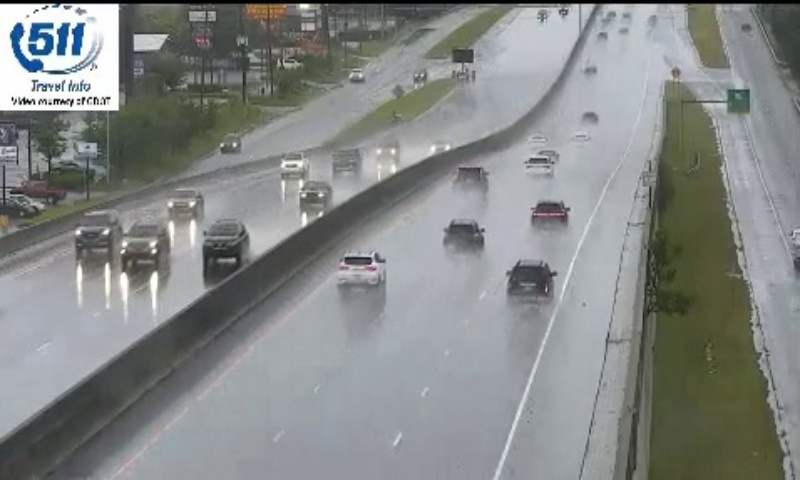car: (507, 260, 554, 299), (338, 249, 384, 287), (443, 219, 483, 251), (530, 200, 569, 230), (455, 163, 487, 192), (523, 154, 550, 175)
